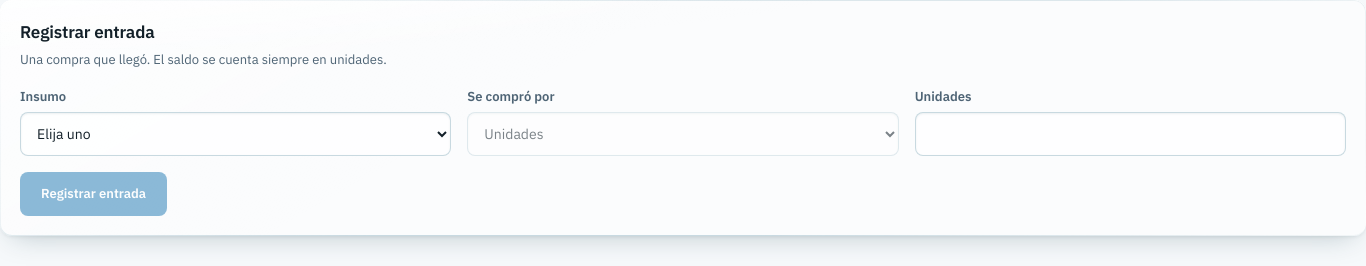
EntradaDeInsumo — la conversión se muestra antes de confirmar › elegir un insumo habilita el botón
Select "TAP — Tapas" in the dropdown labelled "Insumo" at (236, 134), box [20,112,451,156]
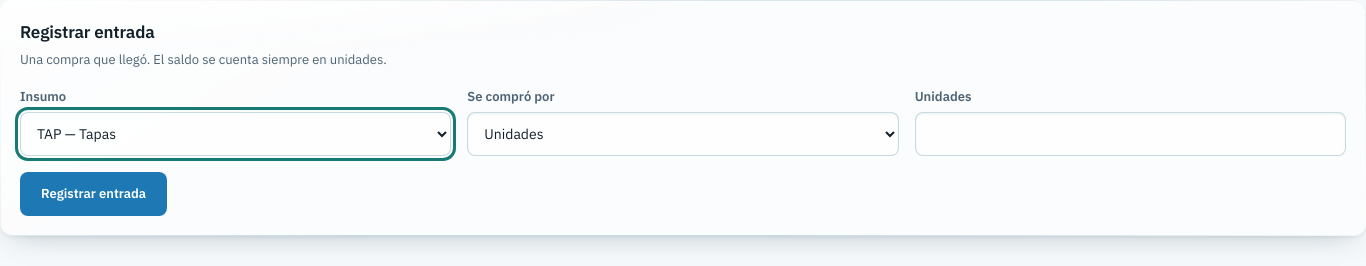
Check: the button "Registrar entrada" is enabled, box [20,172,167,216]
